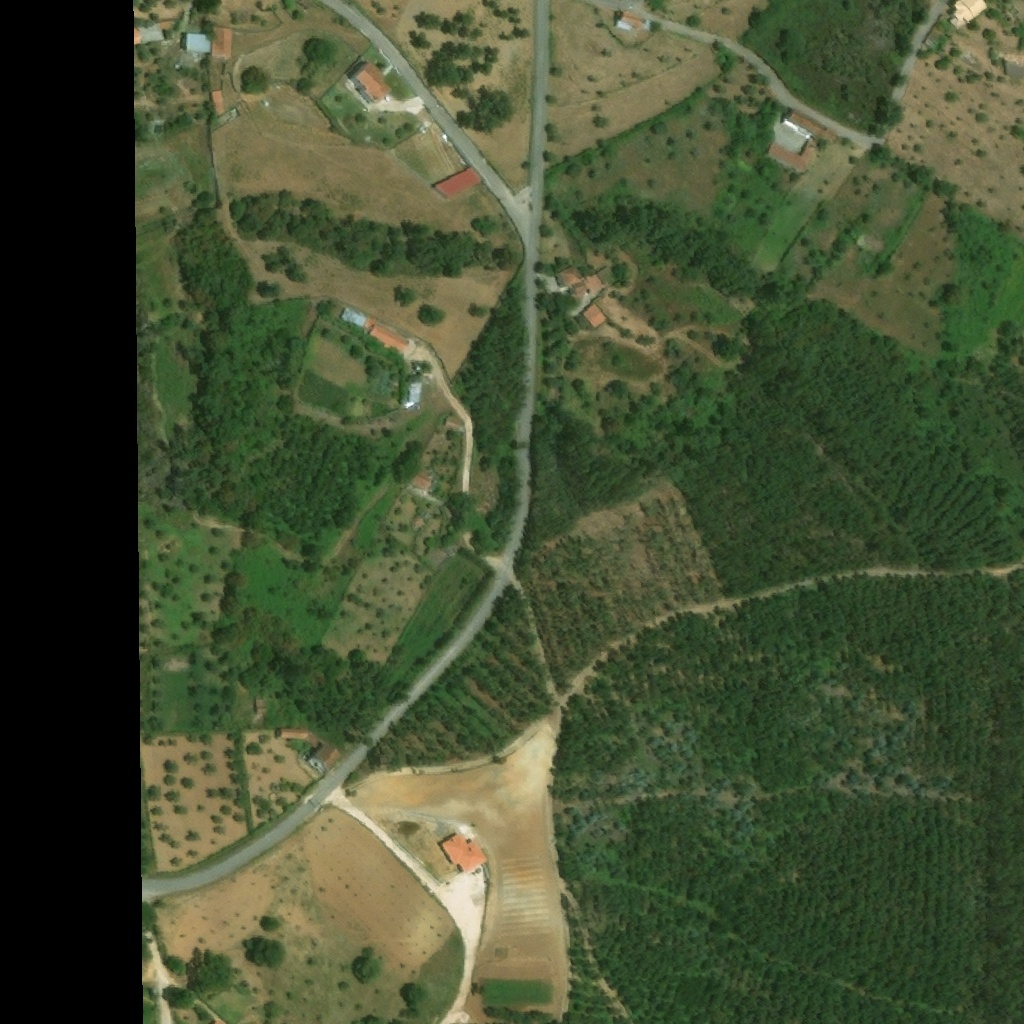0 no-damage: (434, 830, 490, 879), (781, 107, 835, 146), (765, 142, 820, 180), (350, 60, 396, 105), (559, 267, 606, 304), (364, 319, 411, 354), (948, 0, 993, 31), (438, 168, 479, 199), (309, 743, 343, 774), (141, 20, 181, 43), (616, 10, 649, 35), (213, 27, 234, 59), (579, 304, 606, 328), (186, 33, 213, 55), (341, 308, 368, 328), (405, 383, 422, 408), (410, 475, 433, 492), (280, 729, 311, 740), (211, 91, 224, 115), (253, 697, 268, 716), (444, 417, 464, 431)
4 un-classified: (295, 0, 318, 8)
